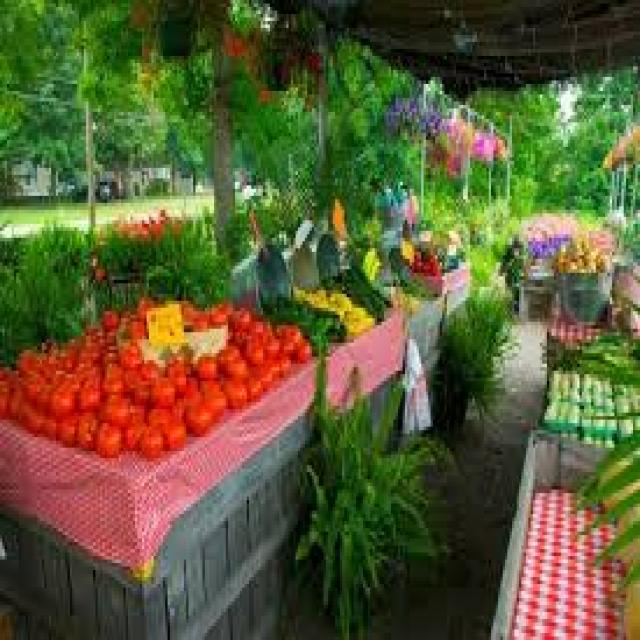organic waste: (261, 294, 342, 353), (321, 262, 386, 322), (296, 284, 372, 332), (552, 332, 638, 367), (93, 388, 128, 427), (72, 367, 103, 409), (135, 423, 163, 462), (72, 406, 96, 448), (182, 395, 210, 430), (158, 416, 184, 451), (93, 420, 119, 454), (128, 374, 156, 402), (44, 339, 75, 364), (200, 388, 224, 420), (400, 273, 431, 297), (221, 374, 244, 406), (147, 374, 170, 406), (47, 381, 72, 409), (165, 356, 184, 392), (214, 339, 235, 371), (9, 367, 40, 388), (16, 343, 42, 367), (118, 416, 140, 444), (54, 406, 72, 440), (412, 245, 435, 269), (246, 360, 268, 385), (9, 388, 26, 420), (21, 402, 40, 430), (100, 360, 121, 385), (291, 332, 309, 360), (26, 381, 46, 406), (119, 364, 135, 395), (237, 336, 261, 356), (272, 332, 291, 357), (226, 304, 247, 326), (132, 294, 154, 315), (118, 339, 140, 360), (128, 399, 147, 423), (196, 353, 214, 378), (198, 374, 223, 392), (221, 357, 247, 374), (74, 322, 96, 342), (179, 374, 196, 399), (147, 406, 172, 423), (209, 297, 226, 322), (242, 374, 258, 399), (260, 332, 274, 360), (44, 367, 72, 381), (0, 381, 12, 413), (612, 413, 628, 437), (121, 315, 142, 332), (263, 360, 277, 385), (75, 353, 100, 367), (138, 357, 158, 374), (247, 346, 263, 367), (42, 413, 56, 437), (0, 360, 16, 381), (226, 325, 249, 339), (275, 350, 291, 370), (74, 336, 96, 350), (189, 308, 207, 325), (277, 322, 298, 336), (249, 314, 270, 328), (93, 328, 114, 342), (179, 301, 191, 325), (612, 395, 626, 413), (591, 409, 605, 427), (172, 392, 182, 416), (556, 378, 568, 398), (100, 308, 114, 325), (116, 304, 128, 322), (542, 402, 554, 420), (570, 388, 582, 406), (577, 385, 589, 402), (100, 346, 114, 360), (563, 245, 577, 259), (624, 392, 638, 406), (598, 395, 612, 409), (565, 371, 575, 388), (596, 248, 605, 266), (554, 252, 563, 269), (556, 363, 566, 378), (565, 406, 575, 420), (598, 378, 608, 392), (577, 367, 587, 381), (589, 388, 598, 402), (547, 384, 556, 398), (582, 248, 593, 259), (598, 434, 610, 444), (577, 430, 594, 437), (549, 364, 556, 381), (630, 409, 638, 423), (605, 412, 612, 427), (579, 413, 589, 423), (582, 255, 591, 266), (561, 259, 575, 266), (624, 381, 638, 388), (556, 409, 563, 423), (589, 374, 596, 385), (577, 238, 587, 245), (575, 252, 582, 262), (612, 378, 619, 388), (591, 434, 601, 441)
